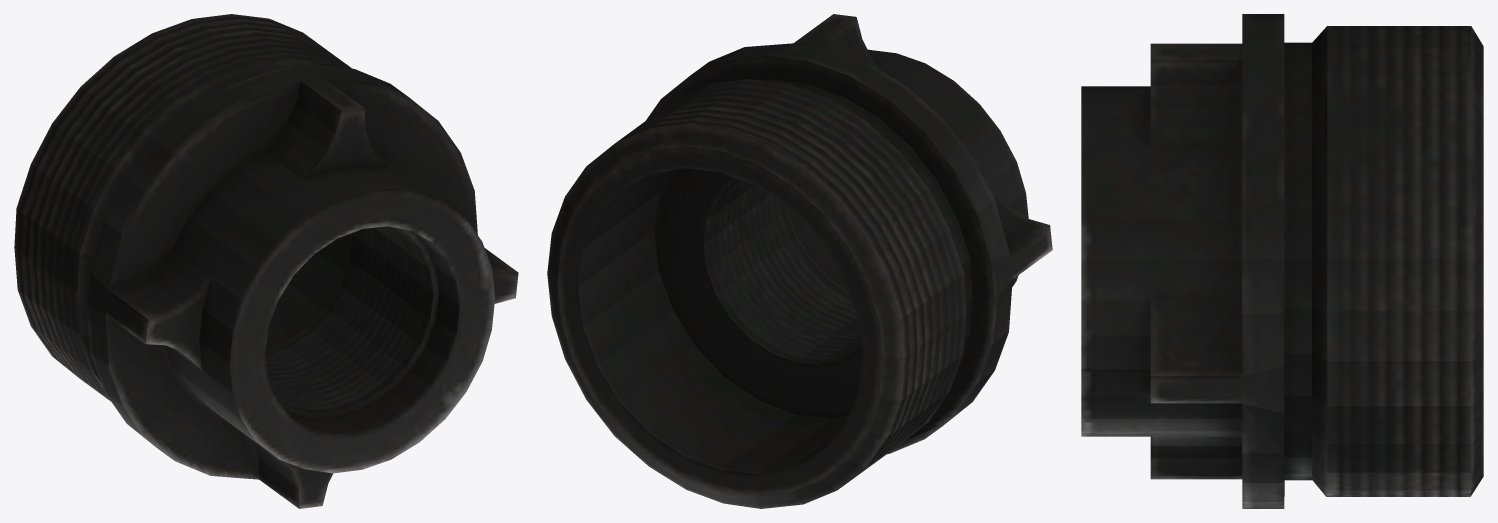
3 renders of one model, left to right at view 1: azimuth 30°, elevation 25°; view 2: azimuth 150°, elevation 25°; view 3: azimuth 270°, elevation 25°, orthographic. The views are drawn at different scales.
Visible parts, largest first — view 1: TW_5fc4b992187fea44d52edaa9_PZ_Import; view 2: TW_5fc4b992187fea44d52edaa9_PZ_Import; view 3: TW_5fc4b992187fea44d52edaa9_PZ_Import.
Part boxes in pixels (<box>): TW_5fc4b992187fea44d52edaa9_PZ_Import: <box>14,14,518,508</box>; TW_5fc4b992187fea44d52edaa9_PZ_Import: <box>547,14,1052,508</box>; TW_5fc4b992187fea44d52edaa9_PZ_Import: <box>1081,14,1483,508</box>.
Size of the model in its own units: 0.0179 by 0.0146 by 0.0179.
1 material, 1 textured.
